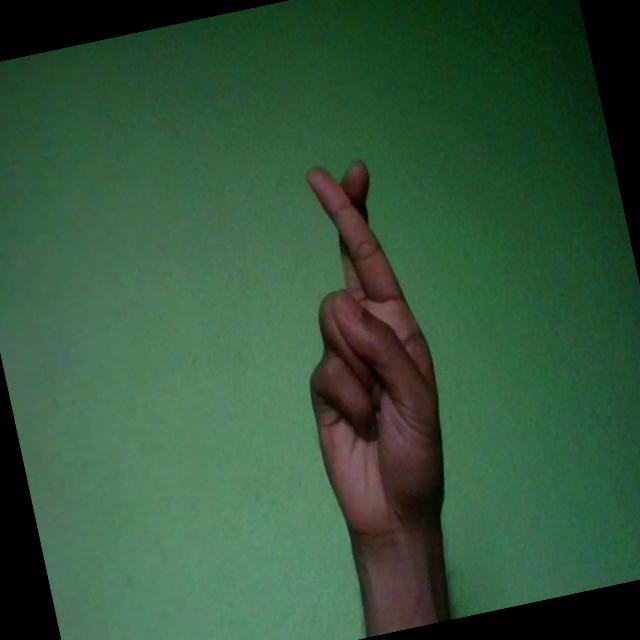Ok: (263, 149, 467, 551)
